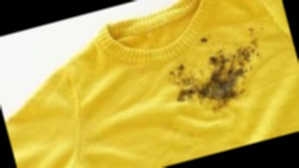earth: (166, 45, 265, 119)
